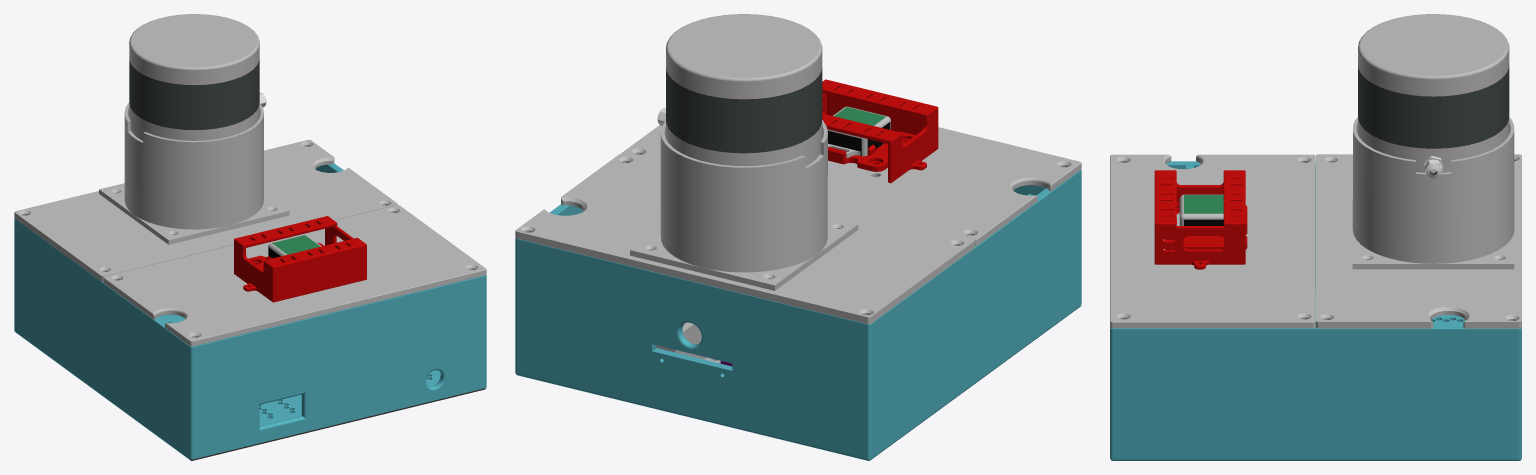
Rendered from sensors.dae.
The picture shows the model from 3 angles, left to right: view 1: azimuth 30°, elevation 25°; view 2: azimuth 150°, elevation 25°; view 3: azimuth 270°, elevation 25°; orthographic projection. The views are drawn at different scales.
Parts seen in each view (by area): view 1: Solid2, Solid1_ncl1_5, Solid1_ncl1_1, Solid1_ncl1_3, Solid1_ncl1_2, Solid1_ncl1_9, Solid1_ncl1_6; view 2: Solid2, Solid1_ncl1_1, Solid1_ncl1_3, Solid1_ncl1_2, Solid1_ncl1_5, Solid1_ncl1_9, Solid1_ncl1_6, Solid1_ncl1_4; view 3: Solid2, Solid1_ncl1_5, Solid1_ncl1_3, Solid1_ncl1_2, Solid1_ncl1_1, Solid1_ncl1_9, Solid1_ncl1_6, Solid1_ncl1_4.
Part boxes in pixels (box(x1,y1,x2,y2)): Solid2: box(14, 163, 486, 460); Solid1_ncl1_5: box(103, 205, 486, 346); Solid1_ncl1_1: box(14, 139, 397, 281); Solid1_ncl1_3: box(129, 14, 266, 140); Solid1_ncl1_2: box(99, 102, 289, 244); Solid1_ncl1_9: box(234, 216, 366, 302); Solid1_ncl1_6: box(268, 235, 321, 258); Solid2: box(515, 170, 1081, 460); Solid1_ncl1_1: box(515, 153, 974, 324); Solid1_ncl1_3: box(657, 14, 822, 166); Solid1_ncl1_2: box(630, 120, 858, 290); Solid1_ncl1_5: box(622, 125, 1081, 245); Solid1_ncl1_9: box(822, 79, 938, 183); Solid1_ncl1_6: box(827, 106, 890, 157); Solid1_ncl1_4: box(828, 131, 914, 171); Solid2: box(1110, 161, 1521, 460); Solid1_ncl1_5: box(1110, 154, 1315, 328); Solid1_ncl1_3: box(1358, 14, 1509, 178); Solid1_ncl1_2: box(1352, 117, 1514, 269); Solid1_ncl1_1: box(1316, 154, 1521, 328); Solid1_ncl1_9: box(1154, 170, 1245, 269); Solid1_ncl1_6: box(1176, 194, 1223, 225); Solid1_ncl1_4: box(1165, 203, 1247, 249).
Size of the model in its own units: 10.63 by 11.02 by 9.75.
